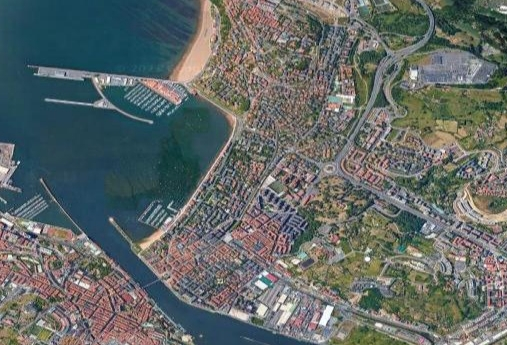harbor: (1, 60, 223, 254)
industrial: (415, 43, 497, 88), (265, 286, 330, 333)
motorway: (323, 121, 362, 177), (351, 306, 422, 336), (403, 206, 466, 238), (373, 43, 421, 75), (358, 74, 389, 122), (352, 178, 402, 206), (414, 1, 437, 44)
